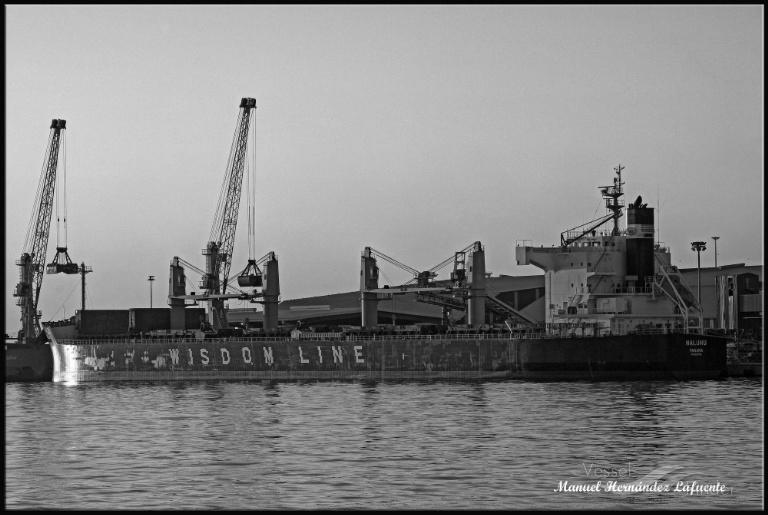OCR: (159, 341, 367, 371)
